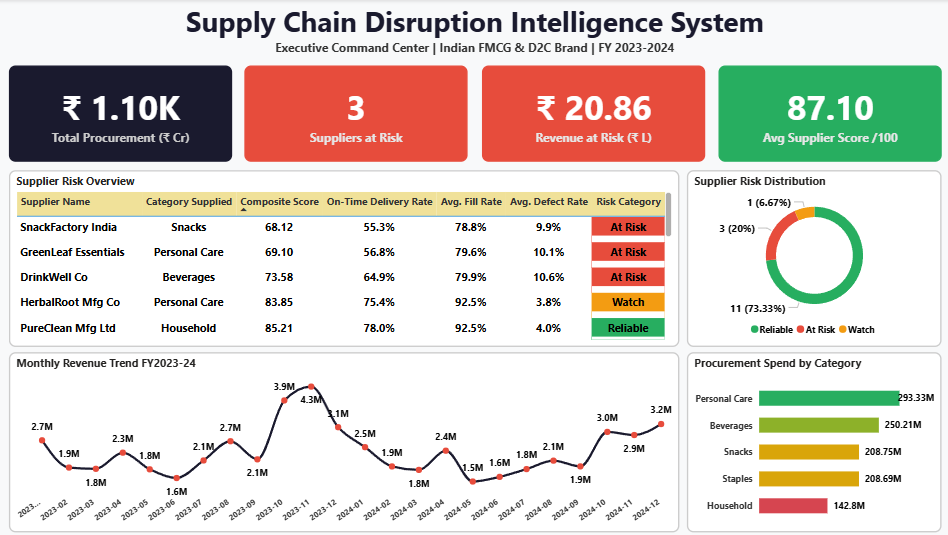

The page's visual inventory and layout, read from the dashboard file:
{"tool":"powerbi","page":{"name":"Executive Command Center","canvas":[1280,720],"ordinal":0},"visuals":[{"type":"textbox","box":[1.5,0,1278.6,81],"z":0},{"type":"card","fields":{"Values":["_Measures.Total Procurement Value"]},"box":[14.1,89.1,300.3,129.8],"z":1000},{"type":"card","fields":{"Values":["_Measures.Avg Supplier Score"]},"box":[968,89.1,300.3,129.8],"z":2000},{"type":"card","fields":{"Values":["_Measures.RED Zone Suppliers"]},"box":[331.5,89.1,300.3,129.8],"z":3000},{"type":"card","fields":{"Values":["_Measures.Total Revenue at Risk"]},"box":[650.6,89.1,300.3,129.8],"z":4000},{"type":"tableEx","title":"Supplier Risk Overview","fields":{"Values":["supplier_scorecard.supplier_name","supplier_scorecard.category_supplied","Sum(supplier_scorecard.composite_score)","Sum(supplier_scorecard.on_time_delivery_rate)","Avg(supplier_scorecard.avg_fill_rate)","Avg(supplier_scorecard.avg_defect_rate)","supplier_scorecard.risk_category"]},"box":[14.1,229.9,901,237.7],"z":5000},{"type":"donutChart","title":"Supplier Risk Distribution","fields":{"Y":["CountNonNull(supplier_scorecard.supplier_id)"],"Category":["supplier_scorecard.risk_category"]},"box":[925.8,229.9,342.5,237.7],"z":6000},{"type":"lineChart","title":"Monthly Revenue Trend FY2023-24","fields":{"Category":["sales_orders.order_month"],"Y":["Sum(sales_orders.gross_revenue_inr)"]},"box":[14.1,473.9,900.8,242.4],"z":7000},{"type":"clusteredBarChart","title":"Procurement Spend by Category","fields":{"Y":["Sum(purchase_orders.po_value_inr)"],"Category":["suppliers.category_supplied"]},"box":[925.8,473.9,342.5,242.4],"z":8000}]}

Visuals, with their boxes in screenshot pixels (x1, y1, x2, y2), scaled from the page's 1280x720 canvas onto the 948x535 screenshot:
textbox: box(1, 0, 947, 60)
card - _Measures.Total Procurement Value: box(10, 66, 233, 163)
card - _Measures.Avg Supplier Score: box(717, 66, 939, 163)
card - _Measures.RED Zone Suppliers: box(246, 66, 468, 163)
card - _Measures.Total Revenue at Risk: box(482, 66, 704, 163)
"Supplier Risk Overview" tableEx: box(10, 171, 678, 347)
"Supplier Risk Distribution" donutChart: box(686, 171, 939, 347)
"Monthly Revenue Trend FY2023-24" lineChart: box(10, 352, 678, 532)
"Procurement Spend by Category" clusteredBarChart: box(686, 352, 939, 532)
